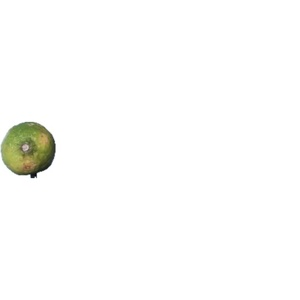limão: (1, 122, 56, 179)
